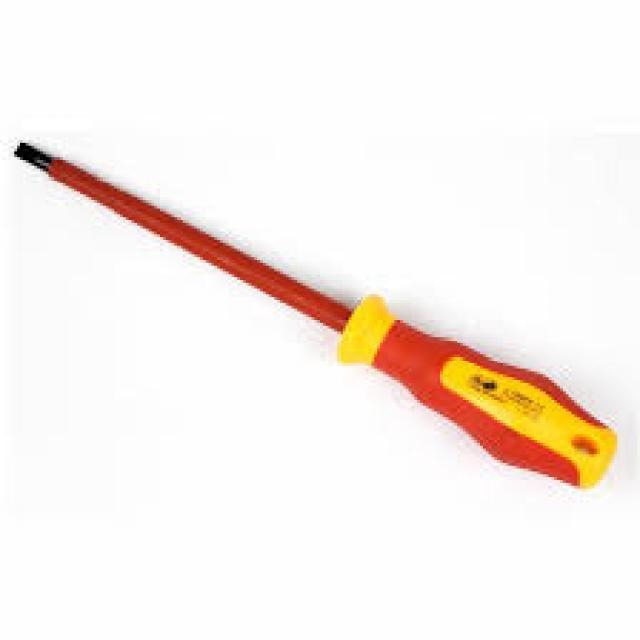screwdriver: (8, 136, 623, 493)
